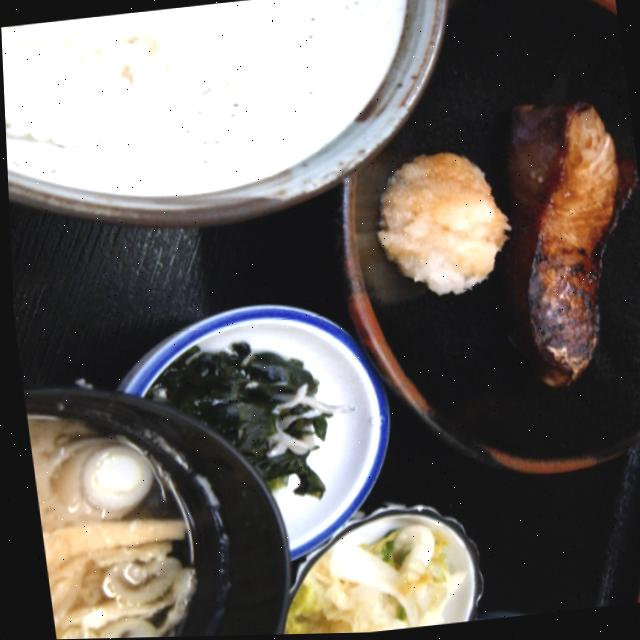熟制海鲜: (474, 79, 640, 435)
